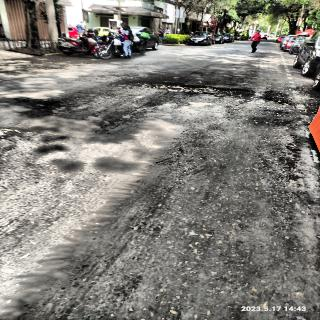pothole: (118, 76, 258, 100)
